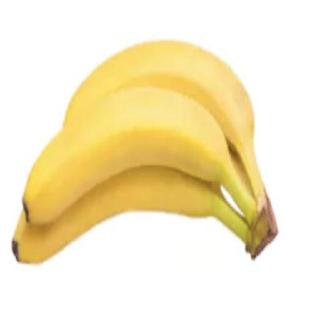banana: (21, 85, 230, 228), (10, 147, 221, 269), (60, 37, 256, 153)
